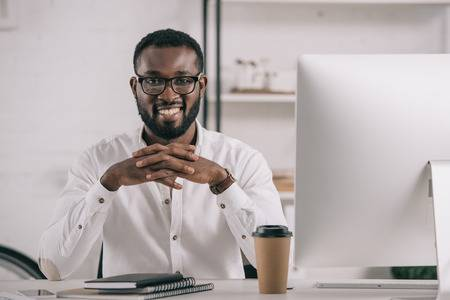F_shirt: (39, 119, 288, 282)
